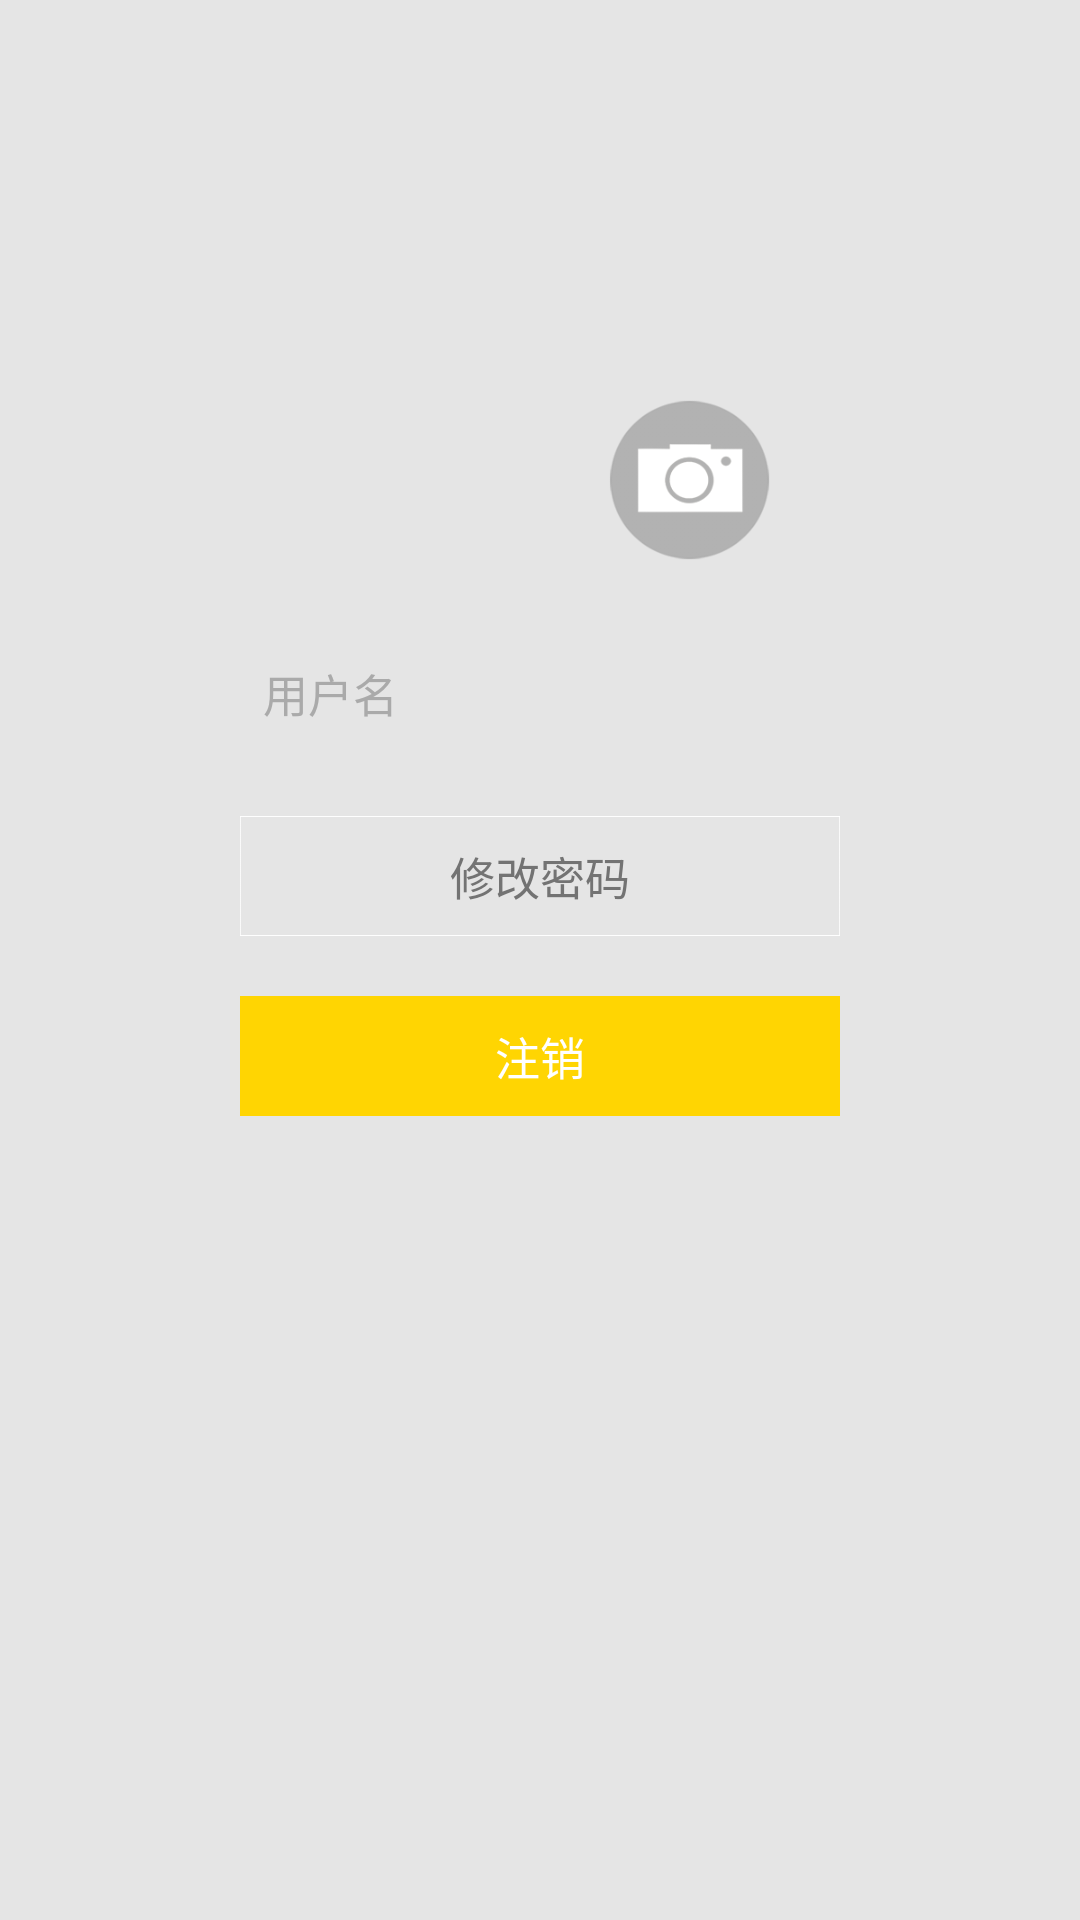

Screen size 1080px×1920px. Icon name, then its box in pixels as (x1, y1, x2, y2):
choose pic: (610, 401, 769, 559)
